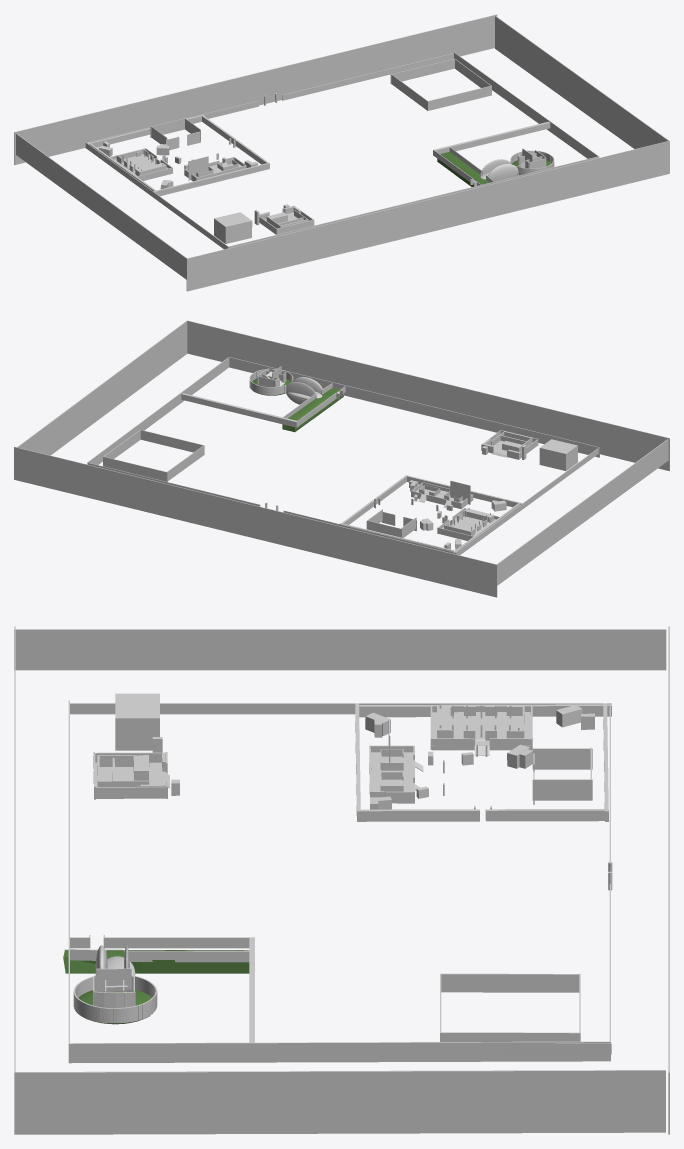
File: plazaPrincipal_colisiones.glb
3 views of the same model, one above another, from view 1: azimuth 30°, elevation 25°; view 2: azimuth 150°, elevation 25°; view 3: azimuth 270°, elevation 25° (orthographic). The views are drawn at different scales.
Parts seen in each view (by area): view 1: caja_colision_i.108, caja_colision_i.105, caja_colision_i.107, caja_colision_i.104, caja_colision_i.004, caja_colision_i.003, caja_colision_i.087, caja_colision_i.001, caja_colision_i.005, caja_colision_i.008, caja_colision_i.011, caja_colision_i.236 (+4 smaller); view 2: caja_colision_i.105, caja_colision_i.108, caja_colision_i.107, caja_colision_i.104, caja_colision_i.005, caja_colision_i.004, caja_colision_i.087, caja_colision_i.001, caja_colision_i.008, caja_colision_i.235, colision_suelo.011, caja_colision_i.236 (+3 smaller); view 3: caja_colision_i.107, caja_colision_i.104, caja_colision_i.004, caja_colision_i.001, caja_colision_i.237, caja_colision_i.087, colision_suelo.011, caja_colision_i.014, caja_colision_i.032, caja_colision_i.018, caja_colision_i.017, caja_colision_i.007 (+10 smaller).
Boxes of the visible parts, x1,y1,x2,y2 form: caja_colision_i.108: (186,141,669,291); caja_colision_i.105: (14,14,497,164); caja_colision_i.107: (495,16,668,148); caja_colision_i.104: (16,133,188,280); caja_colision_i.004: (453,52,598,158); caja_colision_i.003: (282,53,453,100); caja_colision_i.087: (214,212,252,243); caja_colision_i.001: (86,143,229,249); caja_colision_i.005: (228,156,599,248); caja_colision_i.008: (433,121,550,156); caja_colision_i.011: (153,162,269,196); caja_colision_i.236: (427,85,491,110); caja_colision_i.105: (14,447,497,597); caja_colision_i.108: (187,320,669,470); caja_colision_i.107: (17,321,187,455); caja_colision_i.104: (497,439,668,585); caja_colision_i.005: (229,357,599,457); caja_colision_i.004: (87,357,229,464); caja_colision_i.087: (539,439,577,470); caja_colision_i.001: (455,448,598,555); caja_colision_i.008: (181,393,298,427); caja_colision_i.235: (103,456,167,481); colision_suelo.011: (282,388,343,432); caja_colision_i.236: (140,429,204,454); caja_colision_i.107: (15,1070,665,1134); caja_colision_i.104: (14,629,666,670); caja_colision_i.004: (68,1041,610,1063); caja_colision_i.001: (70,703,611,714); caja_colision_i.237: (440,973,579,992); caja_colision_i.087: (115,693,159,750); colision_suelo.011: (63,950,249,973); caja_colision_i.014: (359,704,611,717); caja_colision_i.032: (103,937,249,948); caja_colision_i.018: (359,809,479,821); caja_colision_i.017: (485,809,607,821); caja_colision_i.007: (124,950,254,962).
Size of the model in its own units: 316 by 20.92 by 196.
